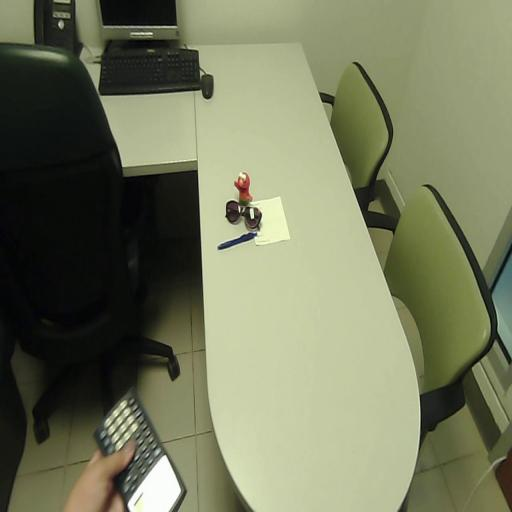pen: (218, 233, 257, 250)
